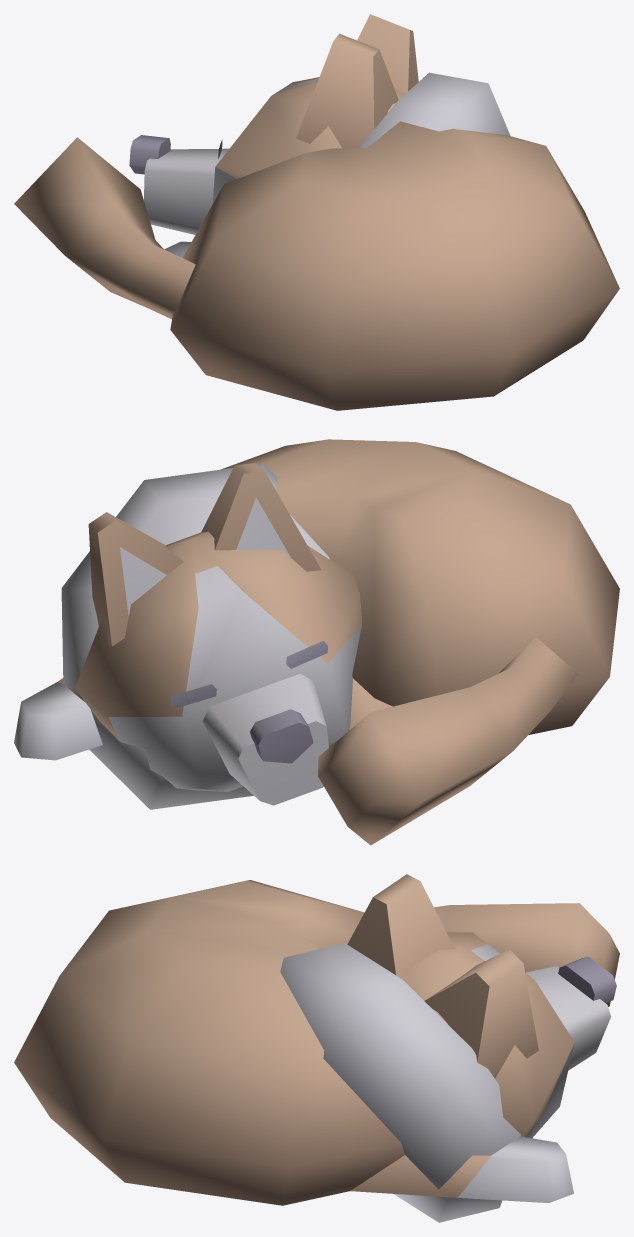
Rendered from dog-corgi-sleeping.glb.
The picture shows the model from 3 angles, top to bottom: view 1: azimuth 30°, elevation 25°; view 2: azimuth 150°, elevation 25°; view 3: azimuth 270°, elevation 25°; orthographic projection. The views are drawn at different scales.
Parts seen in each view (by area): view 1: dog-corgi-sleeping; view 2: dog-corgi-sleeping; view 3: dog-corgi-sleeping.
Boxes of the visible parts, box(x1,y1,x2,y2) form: dog-corgi-sleeping: box(14, 14, 619, 410); dog-corgi-sleeping: box(14, 439, 619, 845); dog-corgi-sleeping: box(14, 874, 619, 1222).
Size of the model in its own units: 0.3491 by 0.2164 by 0.3885.
